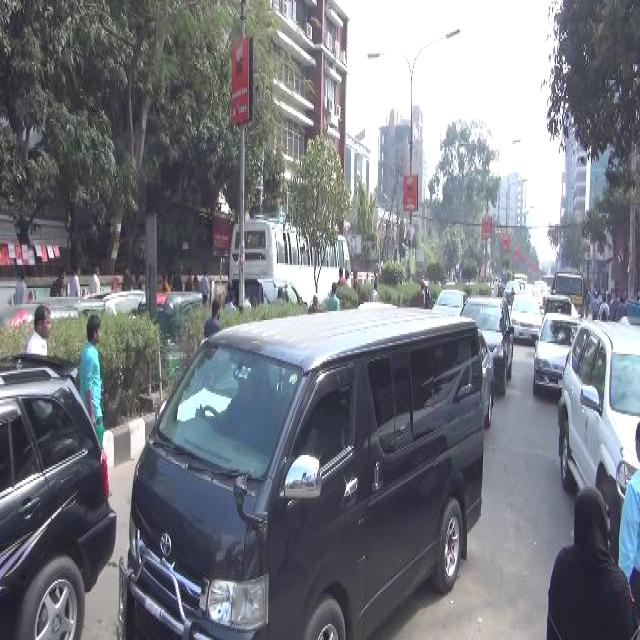BUS: (554, 272, 584, 309)
